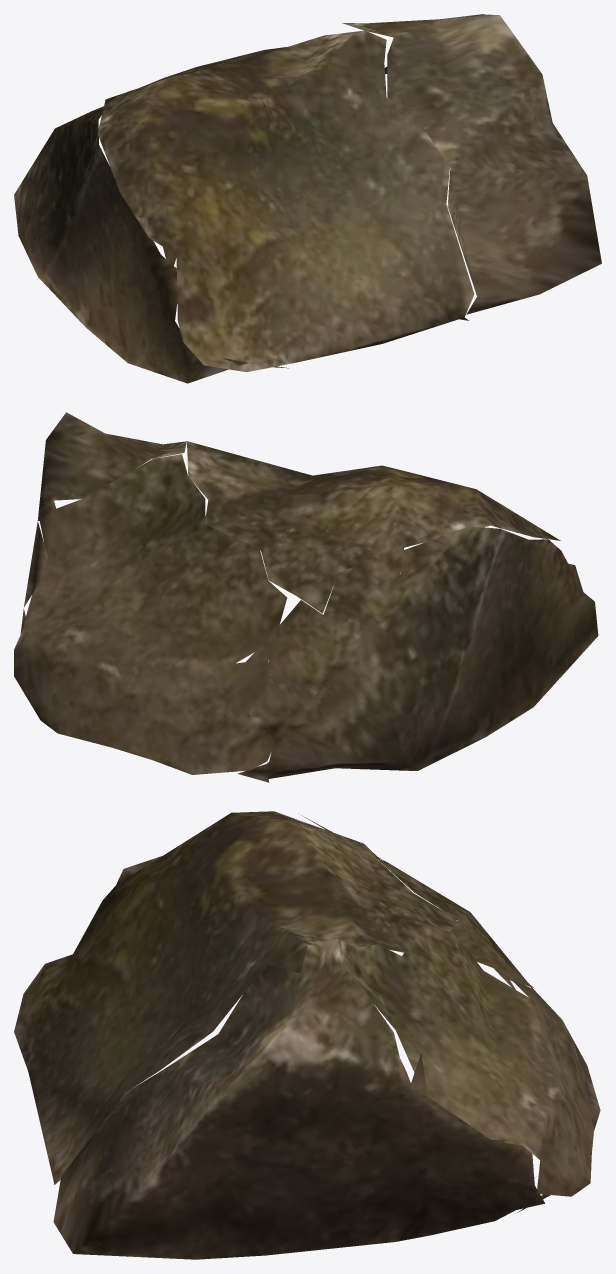
File: boulder-low.glb
3 renders of one model, top to bottom at view 1: azimuth 30°, elevation 25°; view 2: azimuth 150°, elevation 25°; view 3: azimuth 270°, elevation 25°, orthographic. The views are drawn at different scales.
Size of the model in its own units: 2.14 by 1.11 by 2.07.
1 material, 1 textured.
